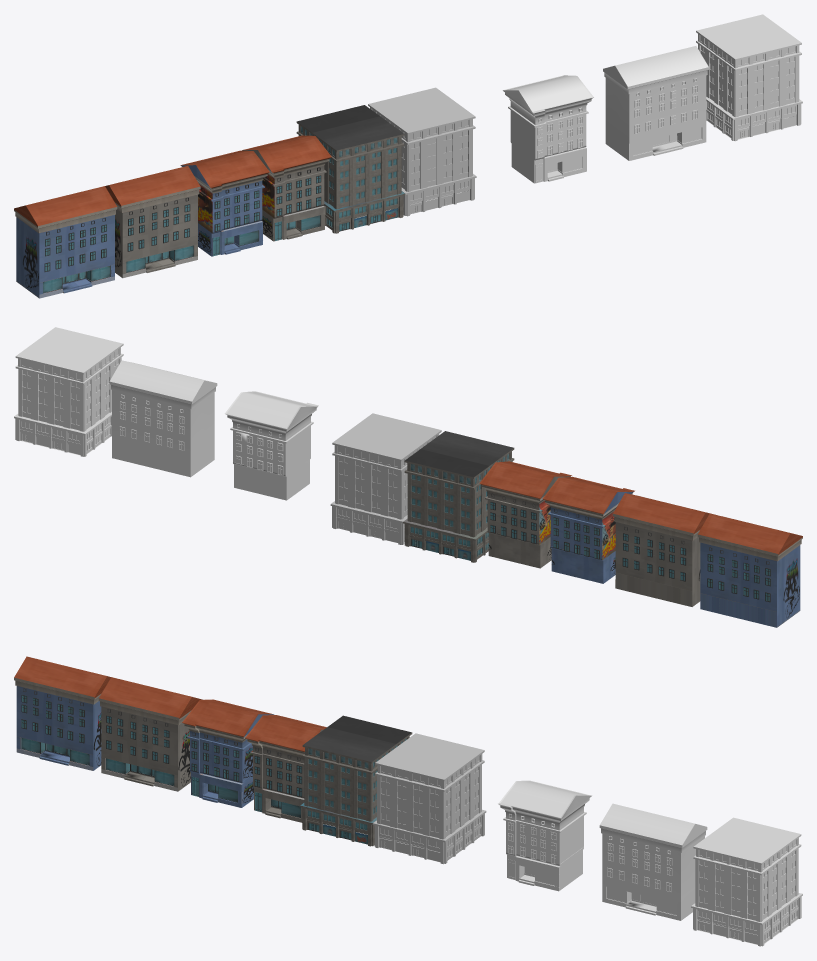
File: gebouw7.fbx
3 renders of one model, top to bottom at view 1: azimuth 30°, elevation 25°; view 2: azimuth 150°, elevation 25°; view 3: azimuth 330°, elevation 25°, orthographic.
Visible parts, largest first — view 1: pPlane2, polySurface102.003, polySurface102.002, pasted__Cube.036, pasted__Cube.001, polySurface102, polySurface62, Gebouw_2.001, Gebouw_2; view 2: pPlane2, polySurface102.003, pasted__Cube.036, polySurface102.002, pasted__Cube.001, polySurface102, polySurface62, Gebouw_2.001, Gebouw_2; view 3: pasted__Cube.001, pPlane2, polySurface102.003, pasted__Cube.036, polySurface102, polySurface102.002, polySurface62, Gebouw_2.001, Gebouw_2.
Boxes of the visible parts, x1,y1,x2,y2 form: pPlane2: (696,14,802,141); polySurface102.003: (603,46,708,160); polySurface102.002: (14,186,117,298); pasted__Cube.036: (296,105,405,233); pasted__Cube.001: (368,87,476,216); polySurface102: (105,166,200,278); polySurface62: (503,75,593,183); Gebouw_2.001: (180,150,269,256); Gebouw_2: (242,135,331,241); pPlane2: (14,327,123,456); polySurface102.003: (109,360,217,477); pasted__Cube.036: (403,431,514,562); polySurface102.002: (697,514,802,627); pasted__Cube.001: (330,413,441,544); polySurface102: (613,493,715,606); polySurface62: (224,391,318,500); Gebouw_2.001: (542,476,634,583); Gebouw_2: (479,461,571,568); pasted__Cube.001: (372,733,486,864); pPlane2: (691,817,802,946); polySurface102.003: (599,803,707,920); pasted__Cube.036: (300,715,412,846); polySurface102: (98,677,203,791); polySurface102.002: (14,656,110,770); polySurface62: (498,780,591,891); Gebouw_2.001: (182,699,274,807); Gebouw_2: (245,715,326,822).
Size of the model in its own units: 5389 by 604 by 597.
